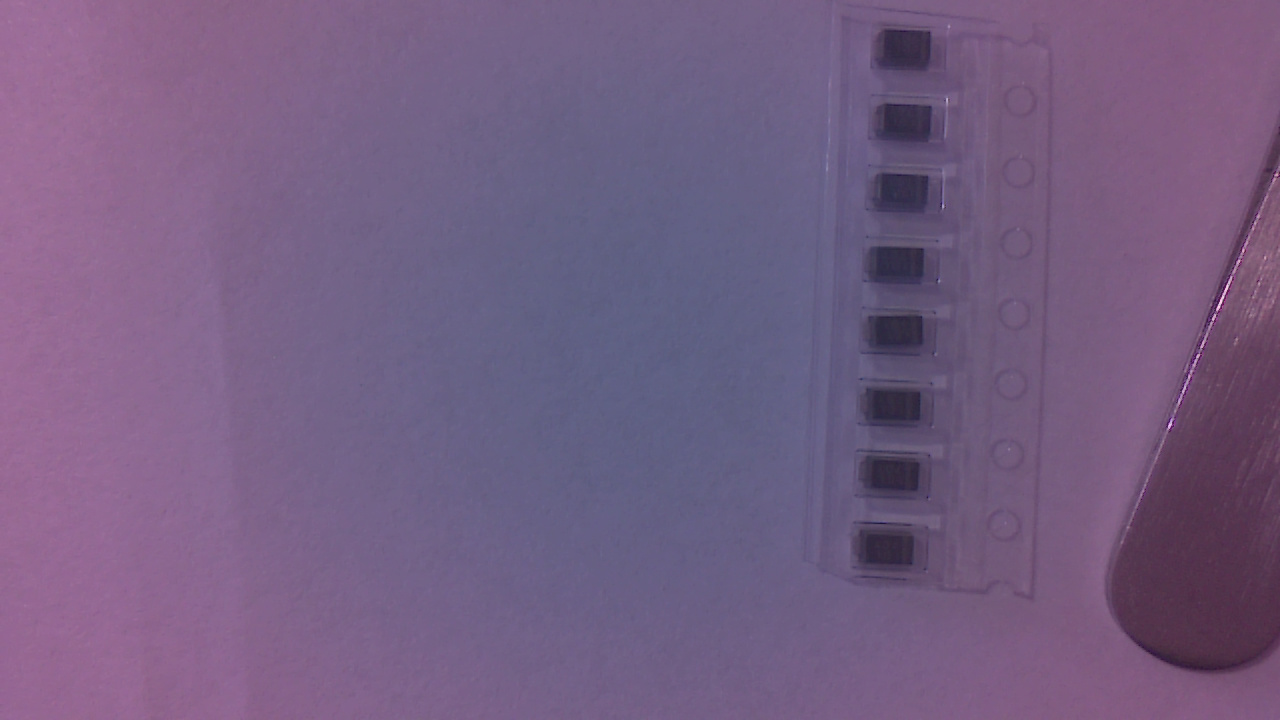Diode: (854, 527, 925, 572), (875, 103, 944, 148), (877, 32, 949, 75), (861, 390, 934, 432), (862, 456, 932, 498), (875, 179, 944, 219), (867, 250, 934, 291), (868, 317, 936, 356)
